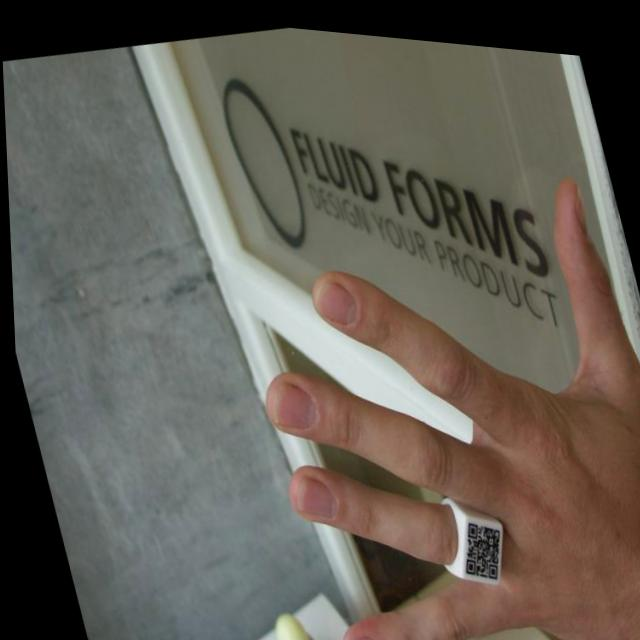qrcode: (450, 507, 507, 578)
